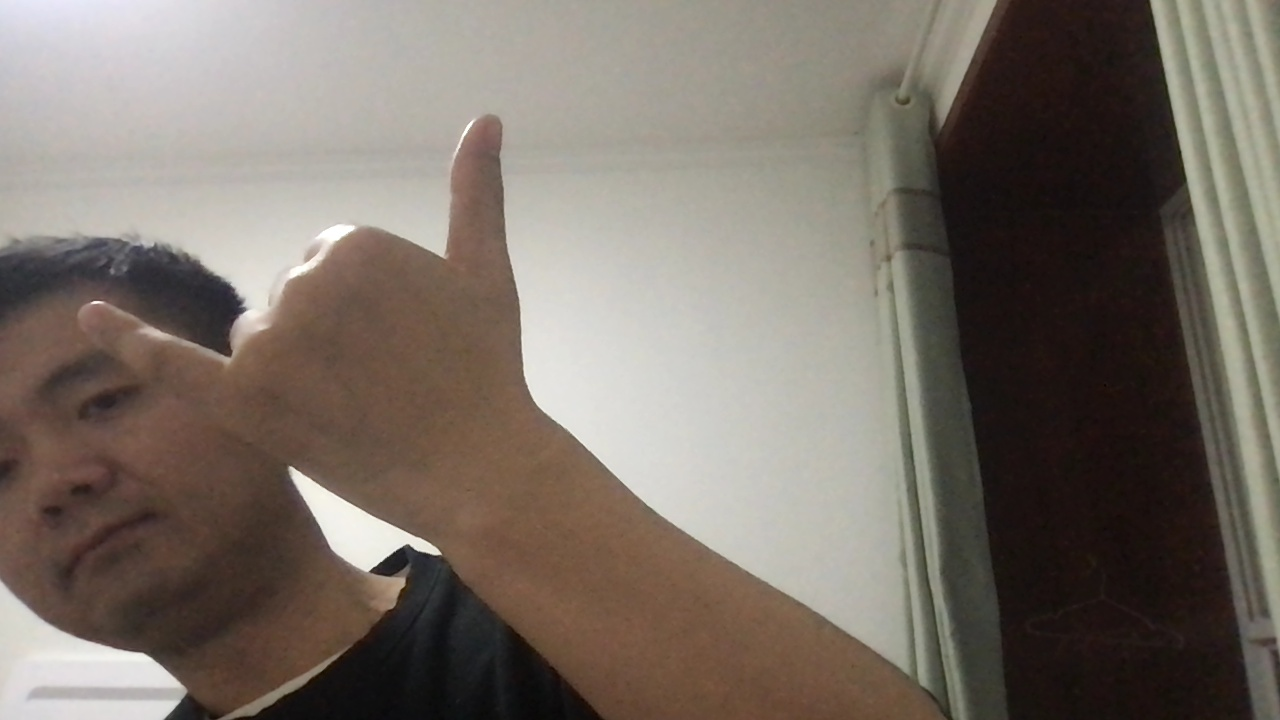iloveyou: (63, 105, 566, 464)
